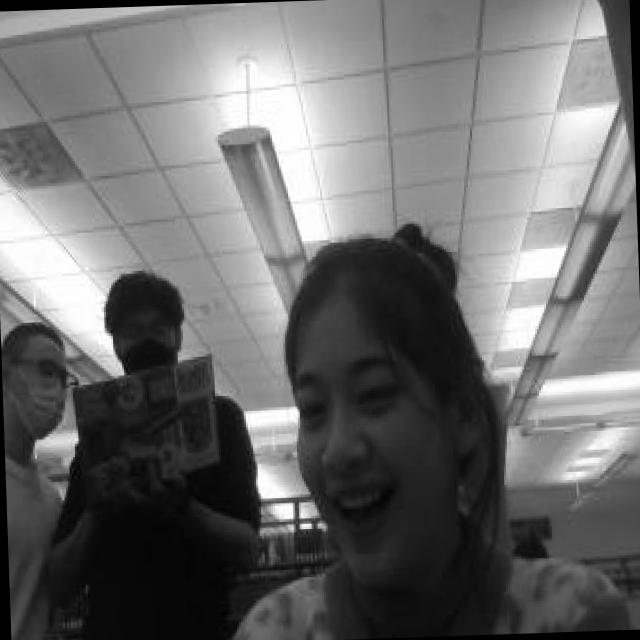Focused: (284, 304, 465, 584)
